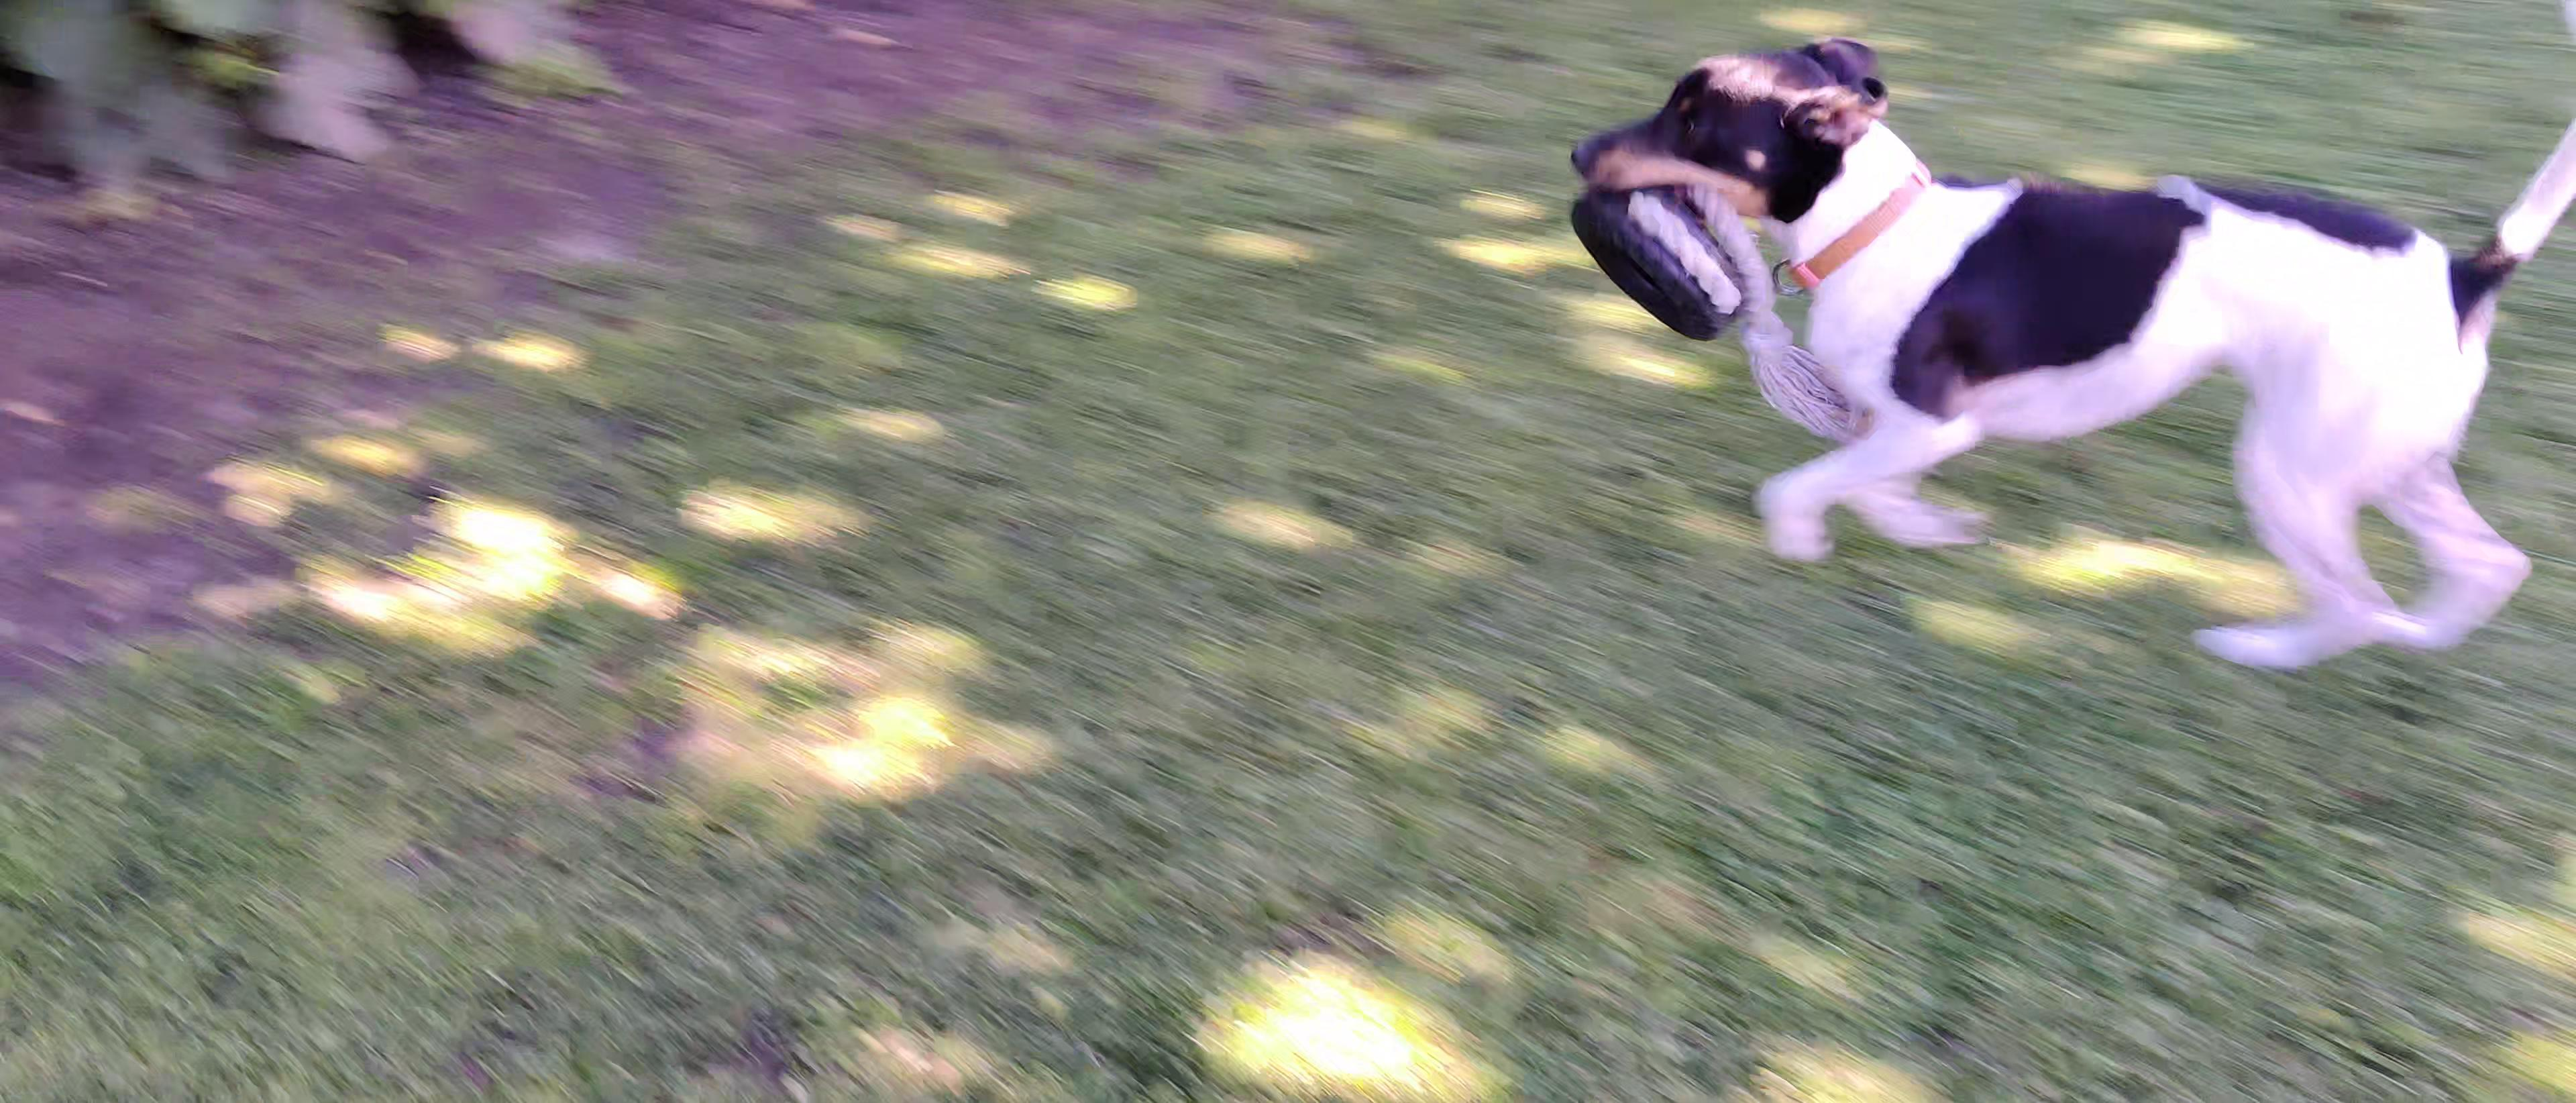Dog: (1520, 15, 2576, 700)
